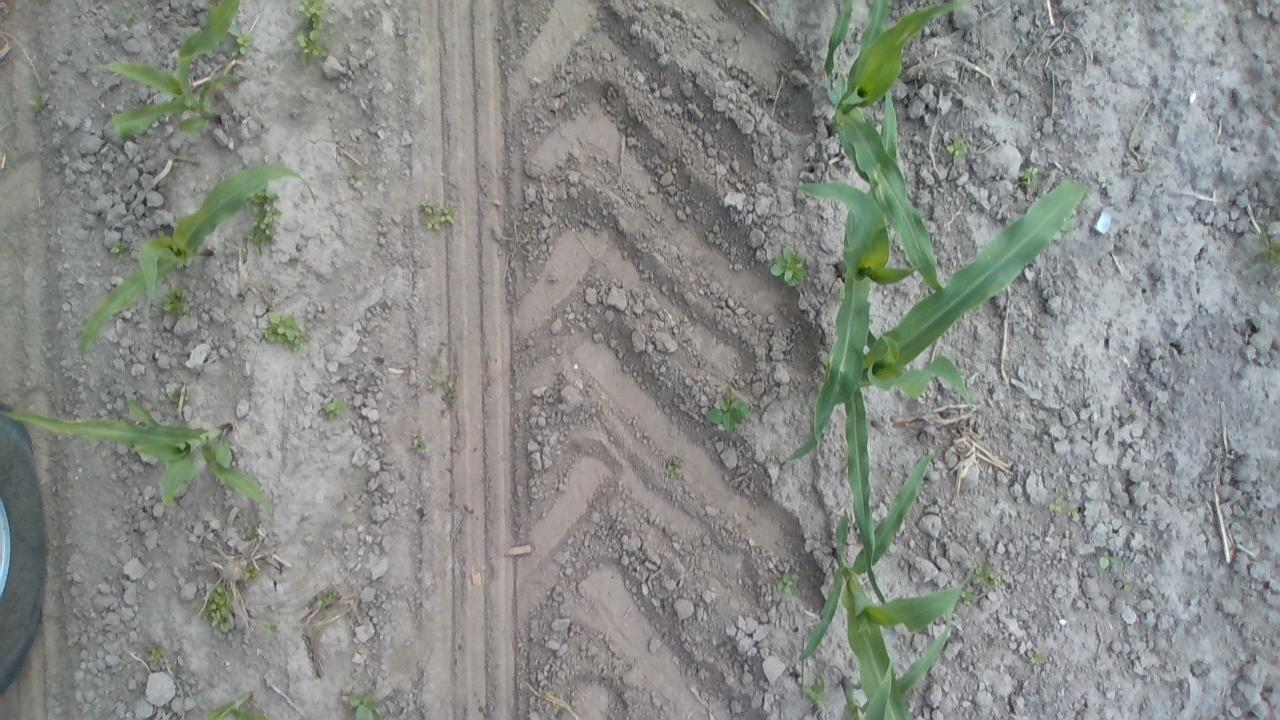Maize: (844, 173, 1086, 606), (79, 160, 318, 367), (784, 94, 900, 462), (827, 1, 963, 294), (800, 454, 980, 664), (0, 398, 274, 518), (96, 1, 247, 139), (836, 607, 954, 720), (824, 0, 855, 81), (202, 693, 262, 720)
Weeds: (701, 382, 750, 434), (199, 579, 238, 633), (262, 310, 312, 351), (766, 245, 810, 291), (247, 189, 280, 248), (418, 192, 457, 234), (1250, 218, 1280, 272), (292, 27, 330, 66), (160, 280, 191, 320), (1046, 484, 1079, 520), (798, 676, 830, 708), (348, 689, 381, 720), (973, 562, 1007, 589), (299, 1, 327, 30), (660, 448, 684, 477), (167, 384, 192, 411), (314, 585, 340, 610), (440, 369, 458, 405), (324, 393, 348, 420), (776, 570, 800, 596), (947, 135, 969, 163), (229, 34, 254, 57), (144, 642, 166, 666), (1018, 165, 1039, 186), (106, 237, 126, 258), (245, 520, 264, 542), (1100, 550, 1120, 570), (960, 590, 981, 607), (28, 93, 44, 114), (242, 565, 258, 584), (1026, 648, 1045, 664), (411, 433, 426, 453), (172, 664, 186, 681), (262, 623, 277, 637), (123, 8, 138, 22), (426, 373, 437, 391), (346, 169, 358, 185), (430, 354, 440, 368), (1125, 580, 1132, 593)
